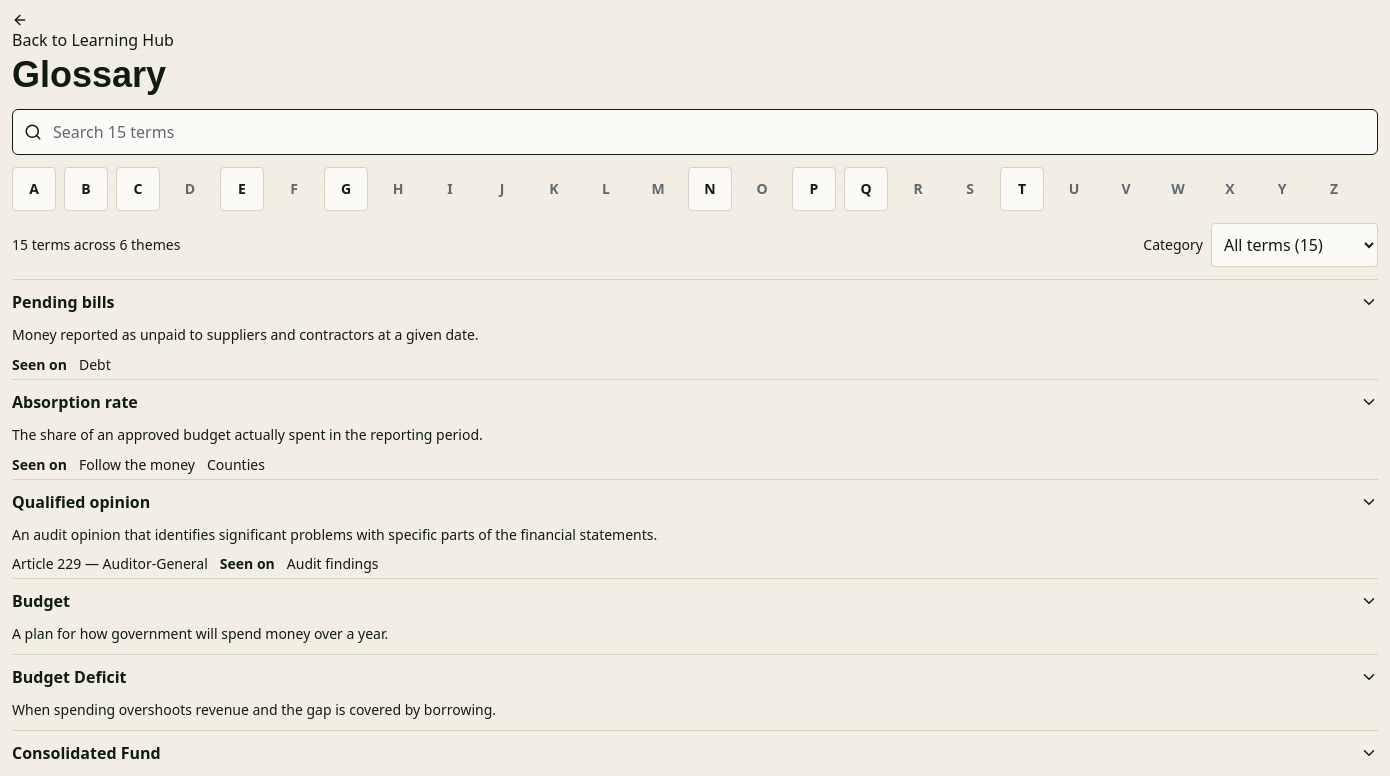
indexes the 15 actual terms, keeps search aliases and disables empty letters
Expected: the text "15 terms across 6 themes" is shown, [12,235,180,255]
Expected: the button "Z" is disabled, [1312,167,1356,211]
Click the button "A" at [34, 189], box [12,167,56,211]
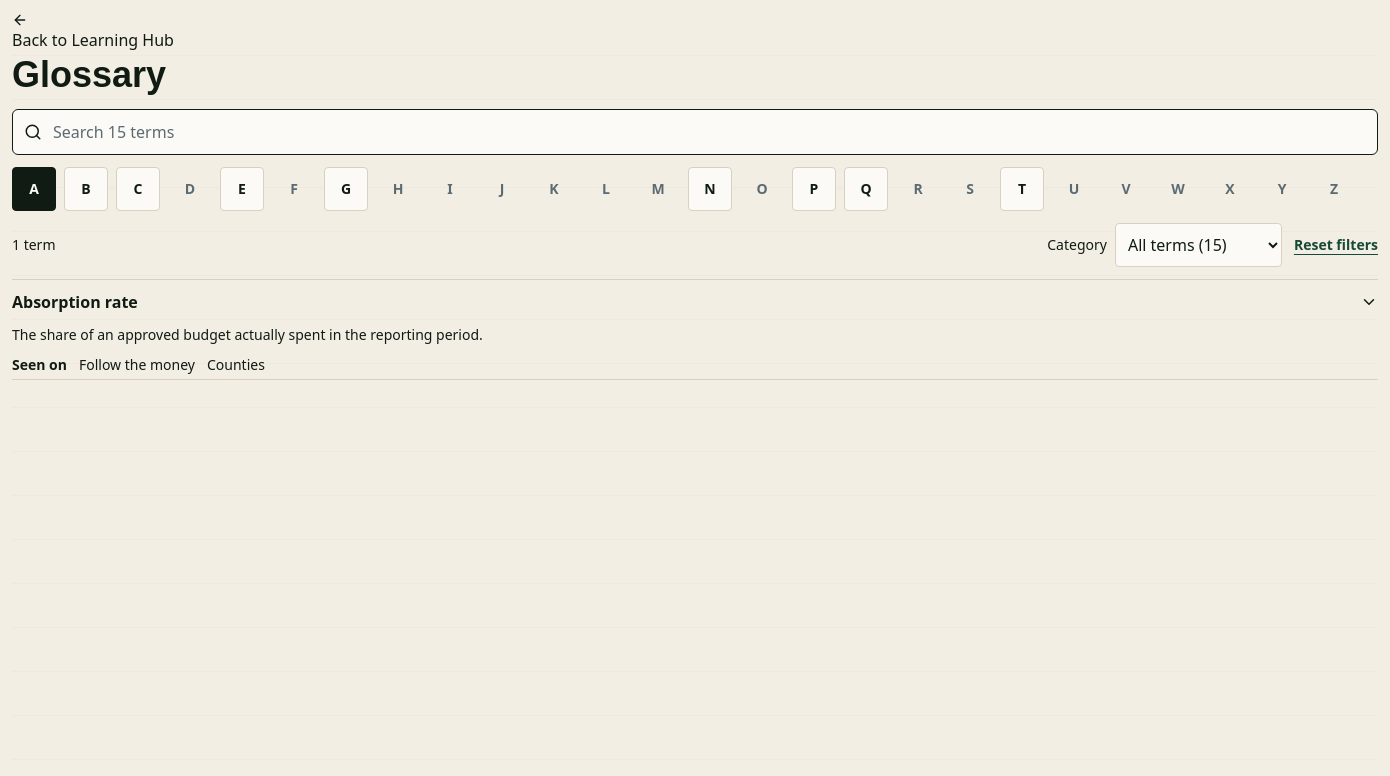
Expected: the button "Absorption rate" is shown, [12,280,1378,324]
Expected: the button "Pending bills" is gone
Type "buDget-execution-rate" into the search field named "Search glossary" at [695, 132], box [12,109,1378,155]
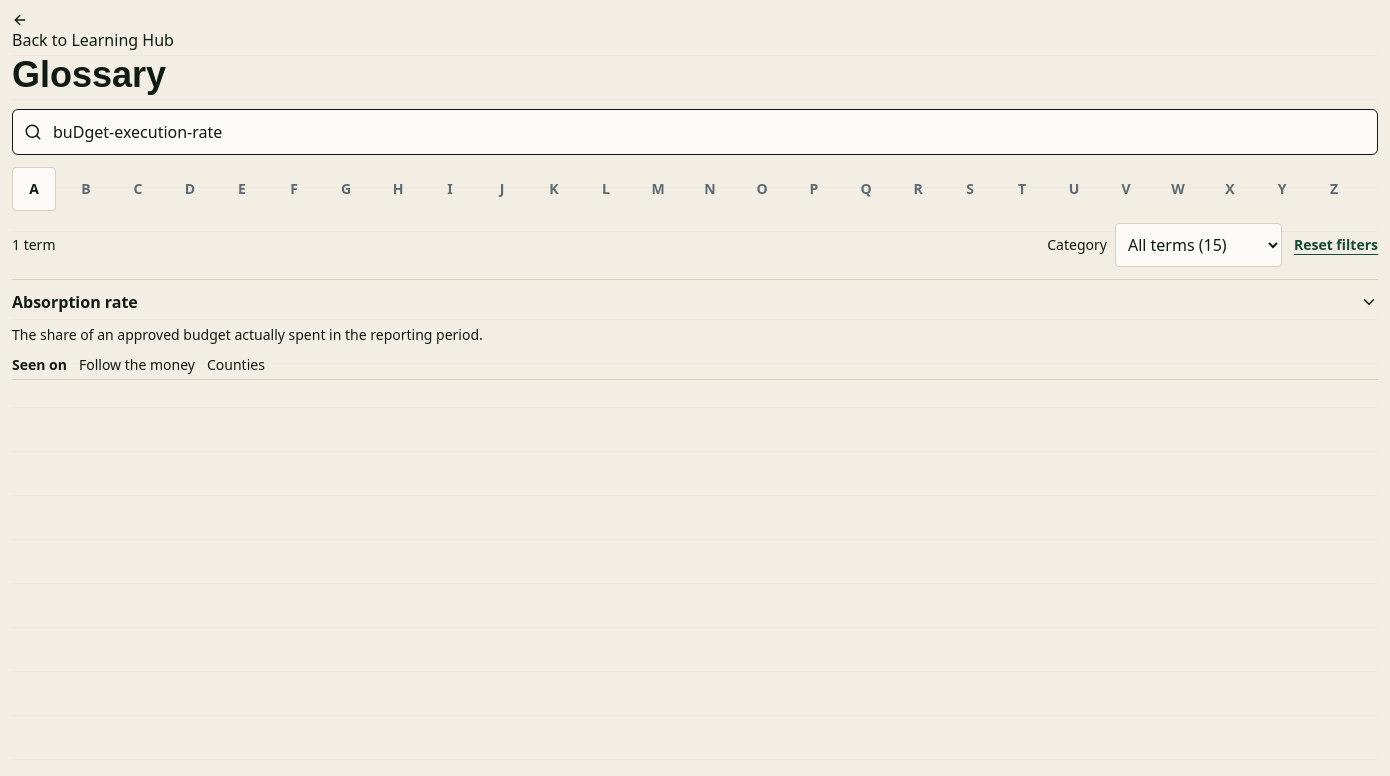
Expected: the button "Absorption rate" is shown, [12,280,1378,324]
Expected: the button "P" is disabled, [792,167,836,211]
Click the button "Reset filters" at [1336, 245], box [1294,223,1378,267]
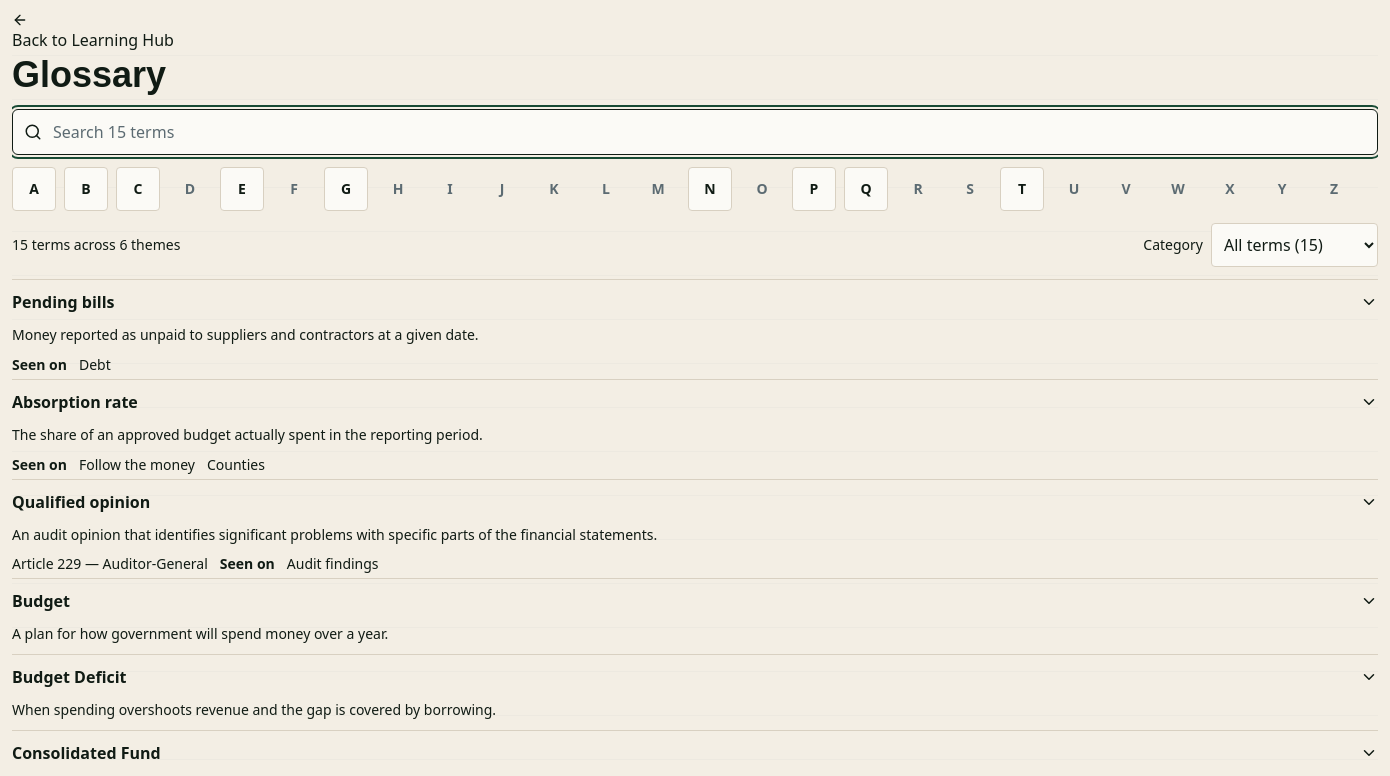
Expected: the button "Pending bills" is shown, [12,280,1378,324]
